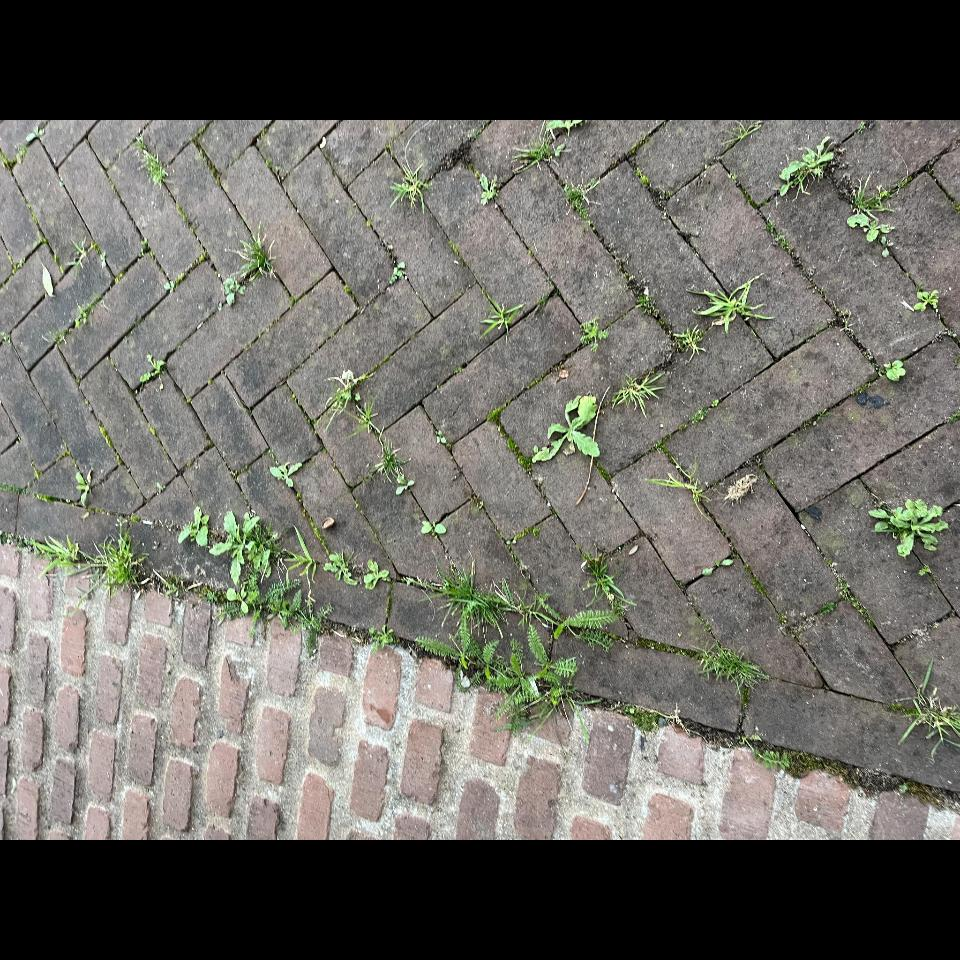weed: (490, 627, 578, 728), (221, 577, 332, 653), (429, 561, 512, 636), (898, 660, 960, 758), (415, 615, 498, 678), (210, 511, 278, 585), (688, 275, 772, 333), (870, 499, 947, 557), (532, 396, 599, 462), (88, 530, 146, 597), (697, 642, 769, 692), (847, 181, 894, 256), (780, 136, 833, 195), (513, 120, 563, 172), (613, 374, 665, 417), (324, 370, 358, 428), (232, 233, 274, 279), (34, 536, 85, 573), (554, 609, 619, 638), (391, 165, 428, 212), (481, 300, 524, 338), (138, 137, 167, 184), (375, 436, 405, 480), (564, 181, 596, 222), (745, 740, 789, 769), (621, 705, 667, 731), (674, 324, 705, 359), (581, 317, 608, 351), (75, 296, 101, 328), (140, 354, 165, 383), (75, 471, 92, 506), (224, 277, 244, 305), (480, 174, 497, 205), (638, 288, 657, 315), (157, 578, 182, 598)
